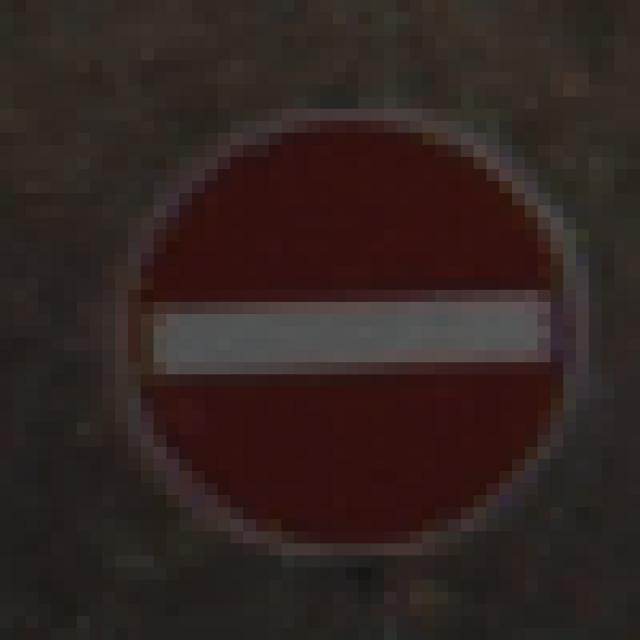No Entry: (65, 74, 564, 569)
